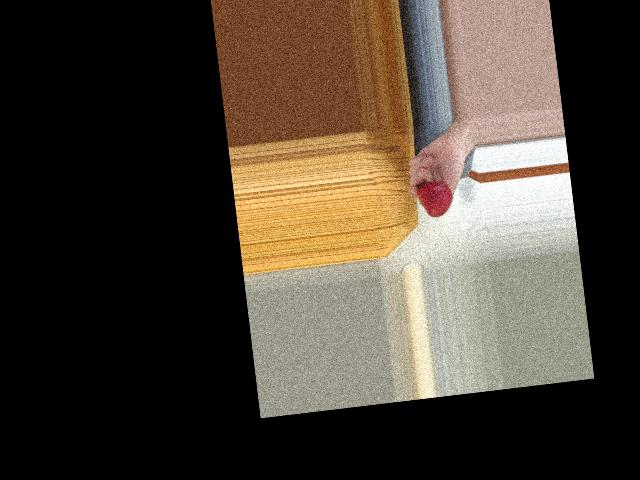apple: (414, 176, 456, 220)
